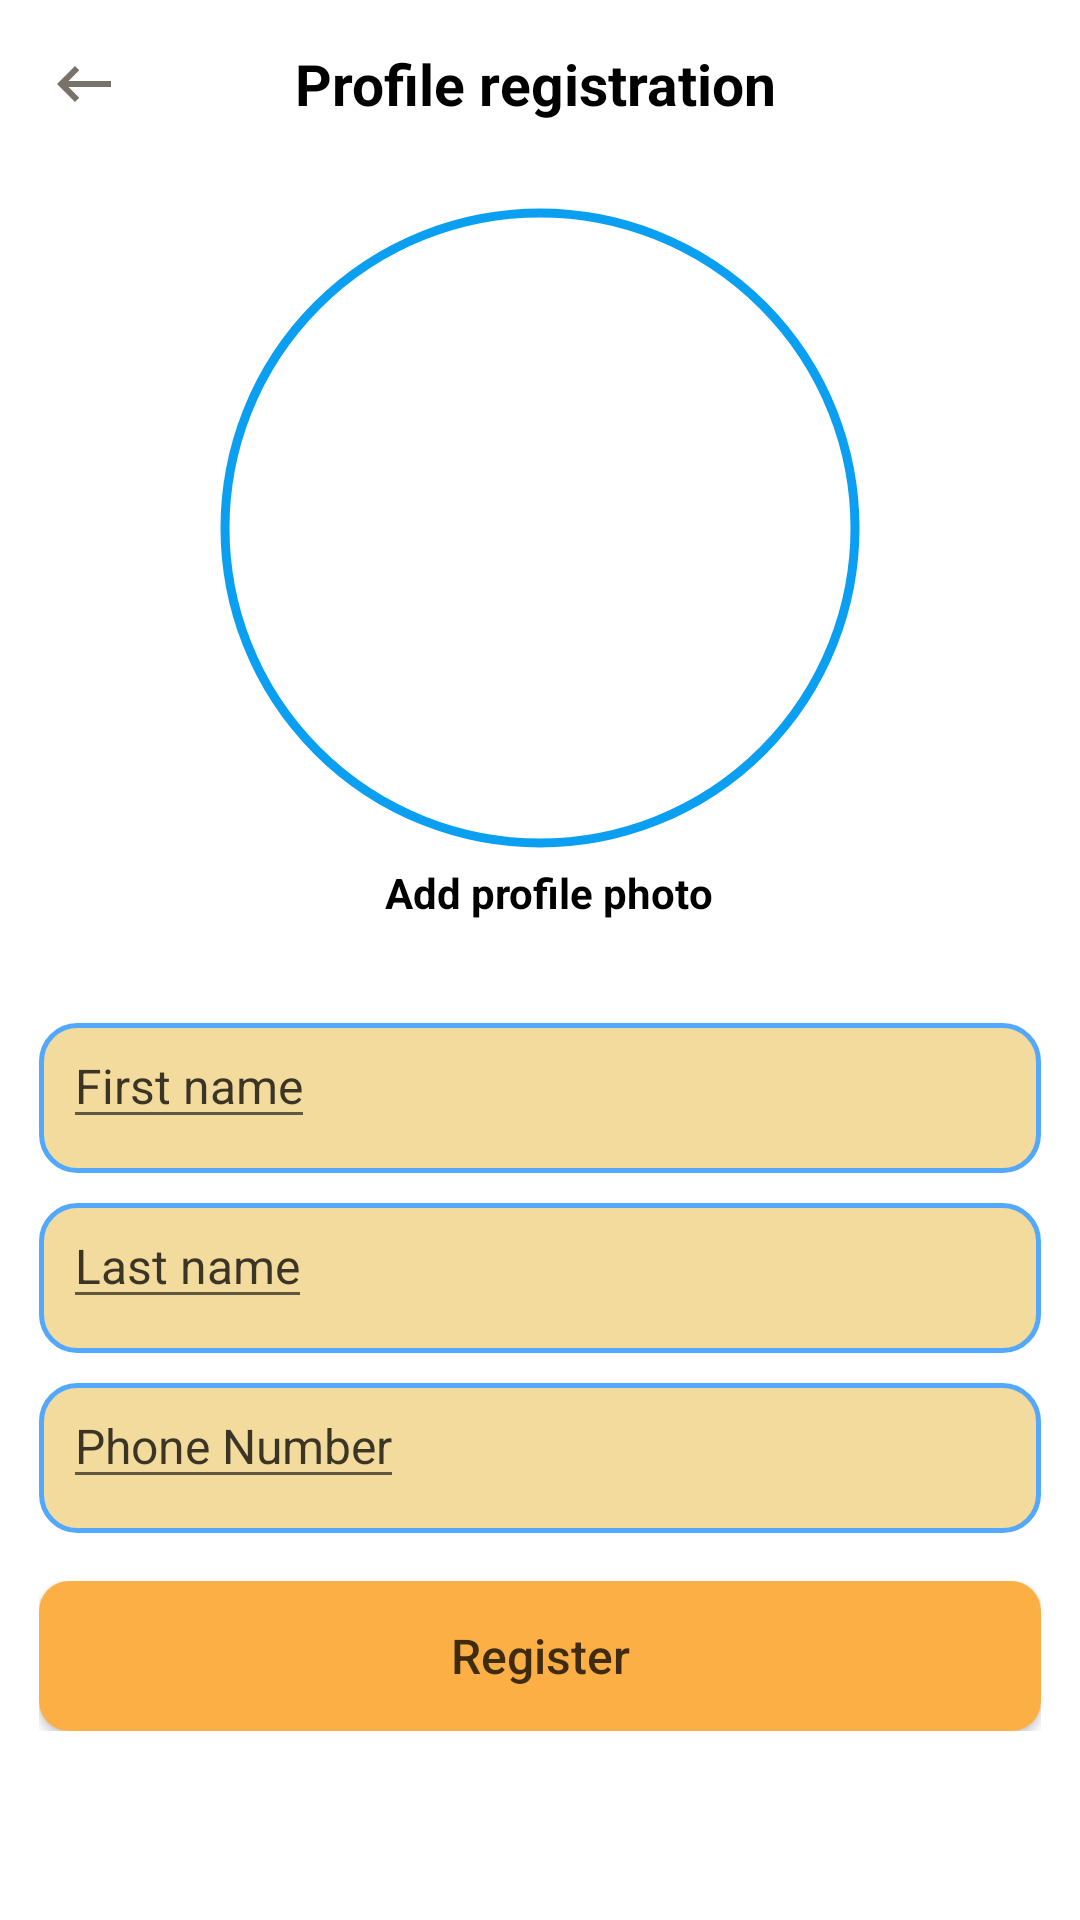

Screen size 1080 × 1920. Icon name, then its box in pixels as [x1=x1, y1=y1, x2=x2, y2=y2]:
keyboard backspace: [x1=57, y1=66, x2=111, y2=102]
